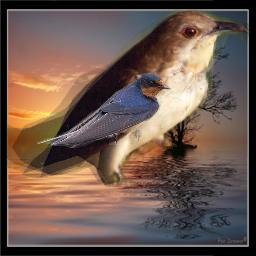Cuckoo: (6, 9, 250, 187)
Swallow: (37, 72, 171, 148)
